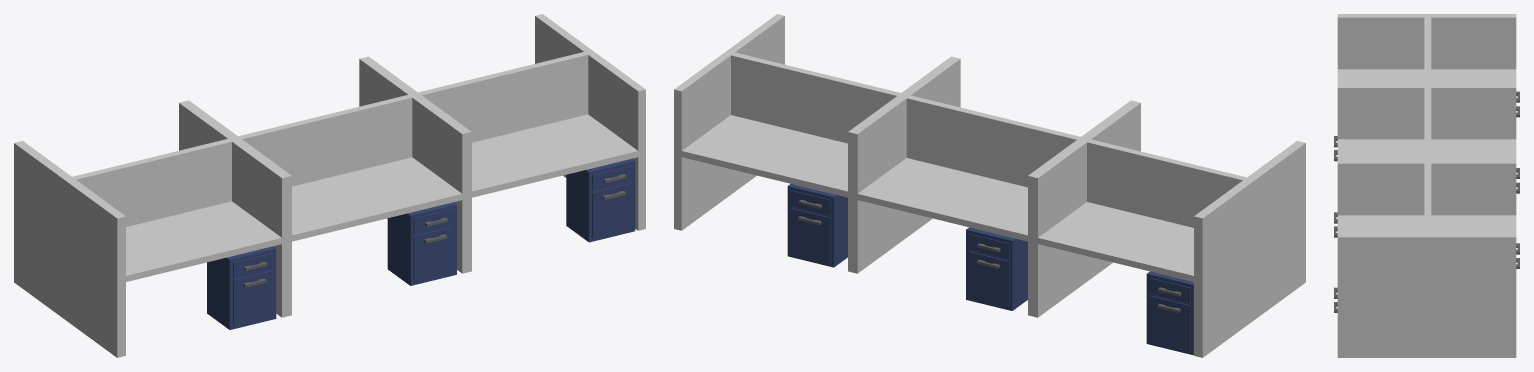
File: cubicle.fbx
3 views of the same model, side by side, from view 1: azimuth 30°, elevation 25°; view 2: azimuth 150°, elevation 25°; view 3: azimuth 270°, elevation 25° (orthographic). The views are drawn at different scales.
Parts seen in each view (by area): view 1: cubicle, cabinet2, cabinet, cabinet1; view 2: cubicle, cabinet4, cabinet3, cabinet5; view 3: cubicle.
Part boxes in pixels (box(x1,y1,x2,y2)): cubicle: box(14, 14, 645, 357); cabinet2: box(207, 246, 276, 329); cabinet: box(566, 159, 635, 242); cabinet1: box(387, 202, 456, 285); cubicle: box(674, 14, 1305, 357); cabinet4: box(966, 227, 1027, 310); cabinet3: box(787, 184, 847, 267); cabinet5: box(1146, 271, 1193, 354); cubicle: box(1337, 14, 1516, 357).
Size of the model in its own units: 671 by 169 by 236.
